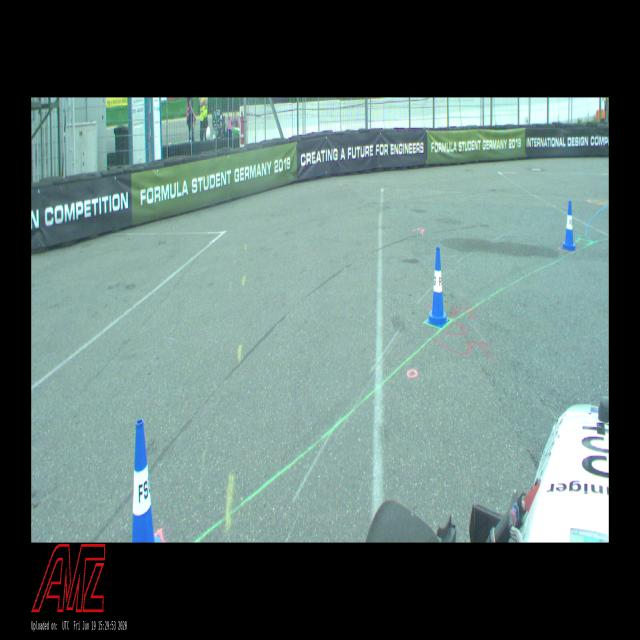blue_cone: (131, 419, 162, 542), (426, 246, 449, 328), (561, 201, 577, 250)
